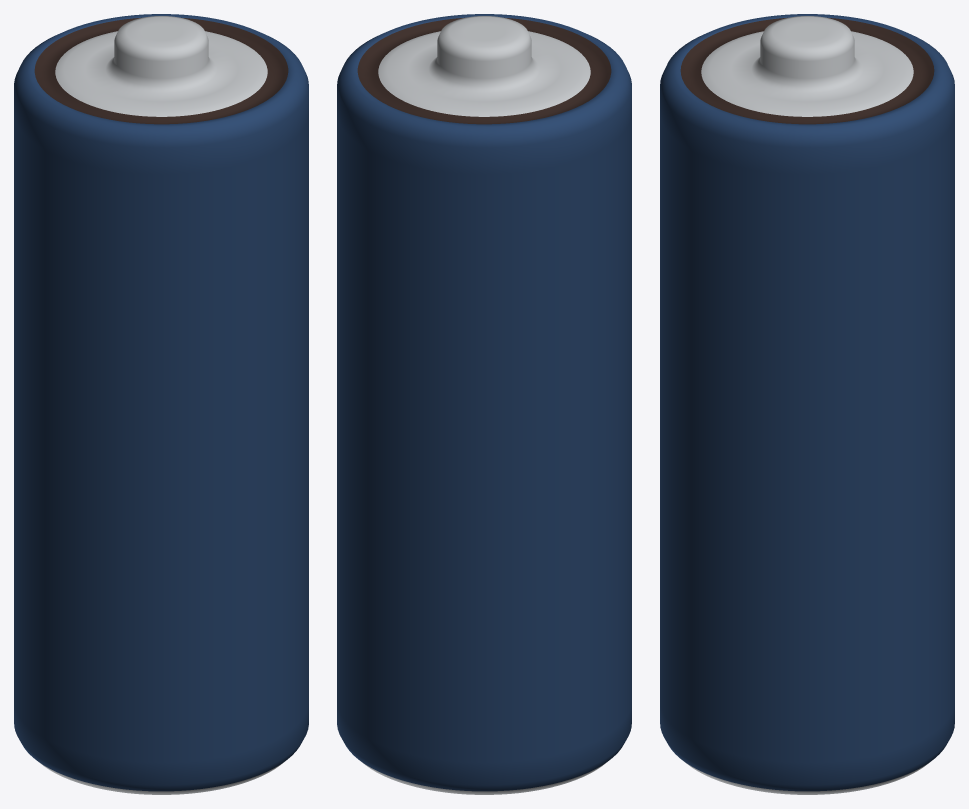
The model's file is A-NEW-20261027-BATTERY_CELL-001_LOD0_R1.glb.
3 views of the same model, side by side, from view 1: azimuth 30°, elevation 25°; view 2: azimuth 150°, elevation 25°; view 3: azimuth 270°, elevation 25° (orthographic).
Visible parts, largest first — view 1: original cylindrical cell with integrated terminal and insul; view 2: original cylindrical cell with integrated terminal and insul; view 3: original cylindrical cell with integrated terminal and insul.
Part boxes in pixels (bbox=[...]): original cylindrical cell with integrated terminal and insul: bbox=[14, 14, 308, 794]; original cylindrical cell with integrated terminal and insul: bbox=[337, 14, 631, 794]; original cylindrical cell with integrated terminal and insul: bbox=[660, 14, 954, 794].
Size of the model in its own units: 0.02 by 0.053 by 0.02.
